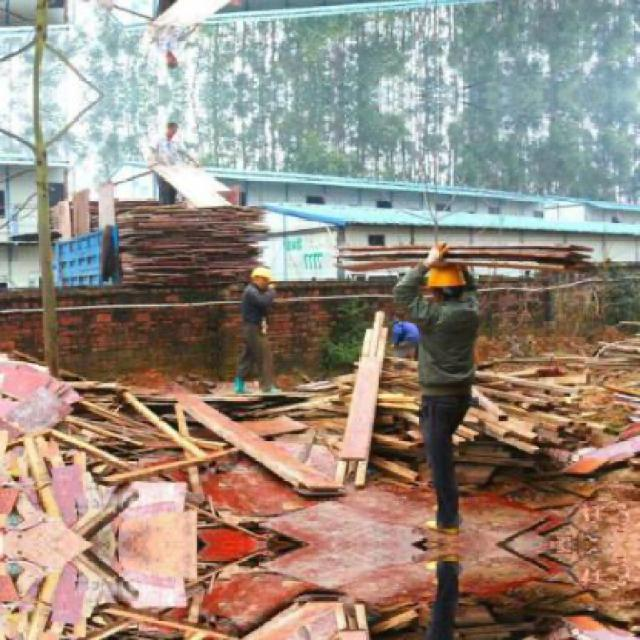con casco: (398, 239, 478, 329), (223, 258, 312, 301)
